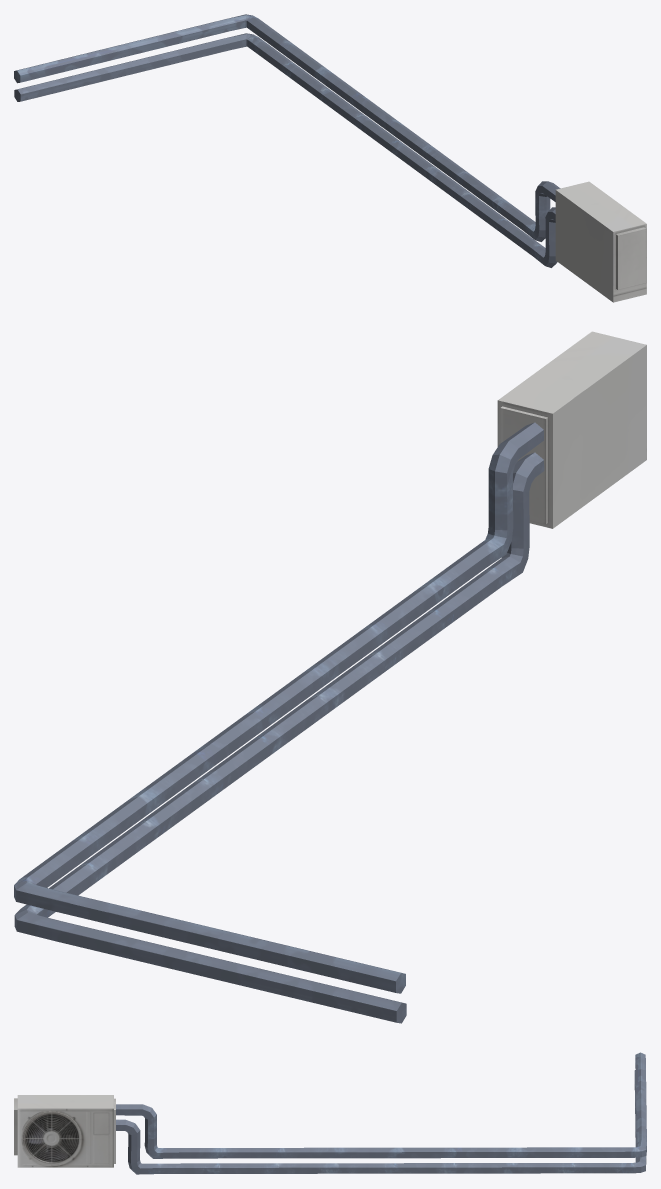
Rendered from ac_unit.gltf.
The picture shows the model from 3 angles, top to bottom: view 1: azimuth 30°, elevation 25°; view 2: azimuth 150°, elevation 25°; view 3: azimuth 270°, elevation 25°; orthographic projection. The views are drawn at different scales.
Parts seen in each view (by area): view 1: Cube.038; view 2: Cube.038; view 3: Cube.038.
Part boxes in pixels (box(x1,y1,x2,y2)): Cube.038: box(14, 14, 646, 302); Cube.038: box(14, 331, 646, 1023); Cube.038: box(14, 1052, 646, 1174).
Bounding box in the file's own units: 3.05 × 1.03 × 7.79.
2 materials, 2 textured.
